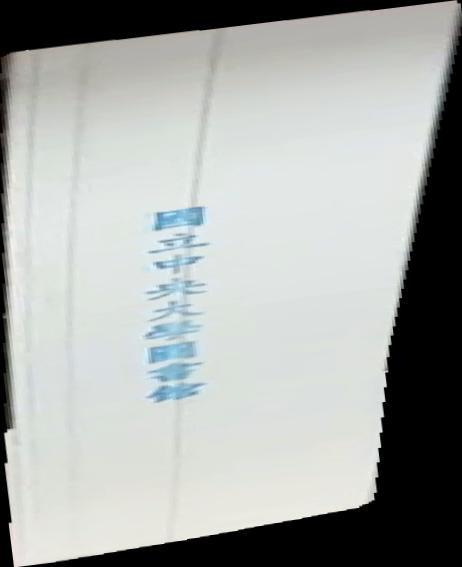backward: (1, 1, 462, 567)
